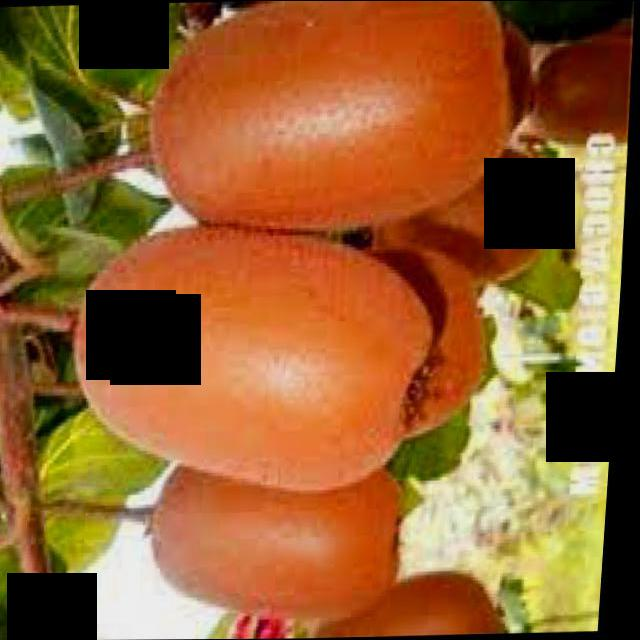kiwi: (71, 222, 447, 490), (144, 1, 522, 226), (250, 241, 495, 435), (150, 455, 408, 622), (365, 142, 558, 278), (322, 564, 511, 636), (529, 39, 631, 146)
